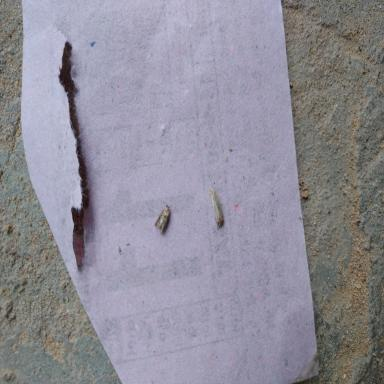pbw: (208, 187, 226, 227), (153, 205, 172, 231)
